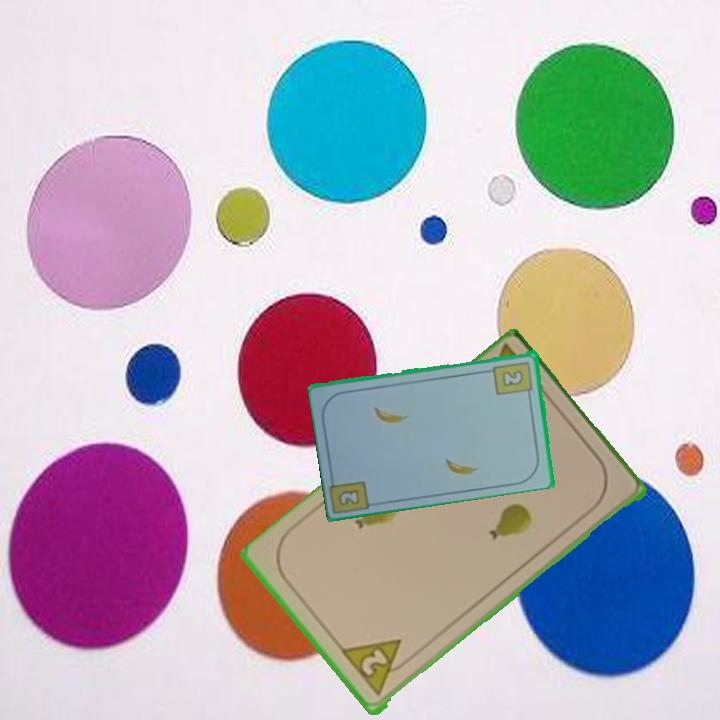2b: (490, 357, 536, 400), (337, 488, 360, 506)
2p: (338, 635, 415, 700)
